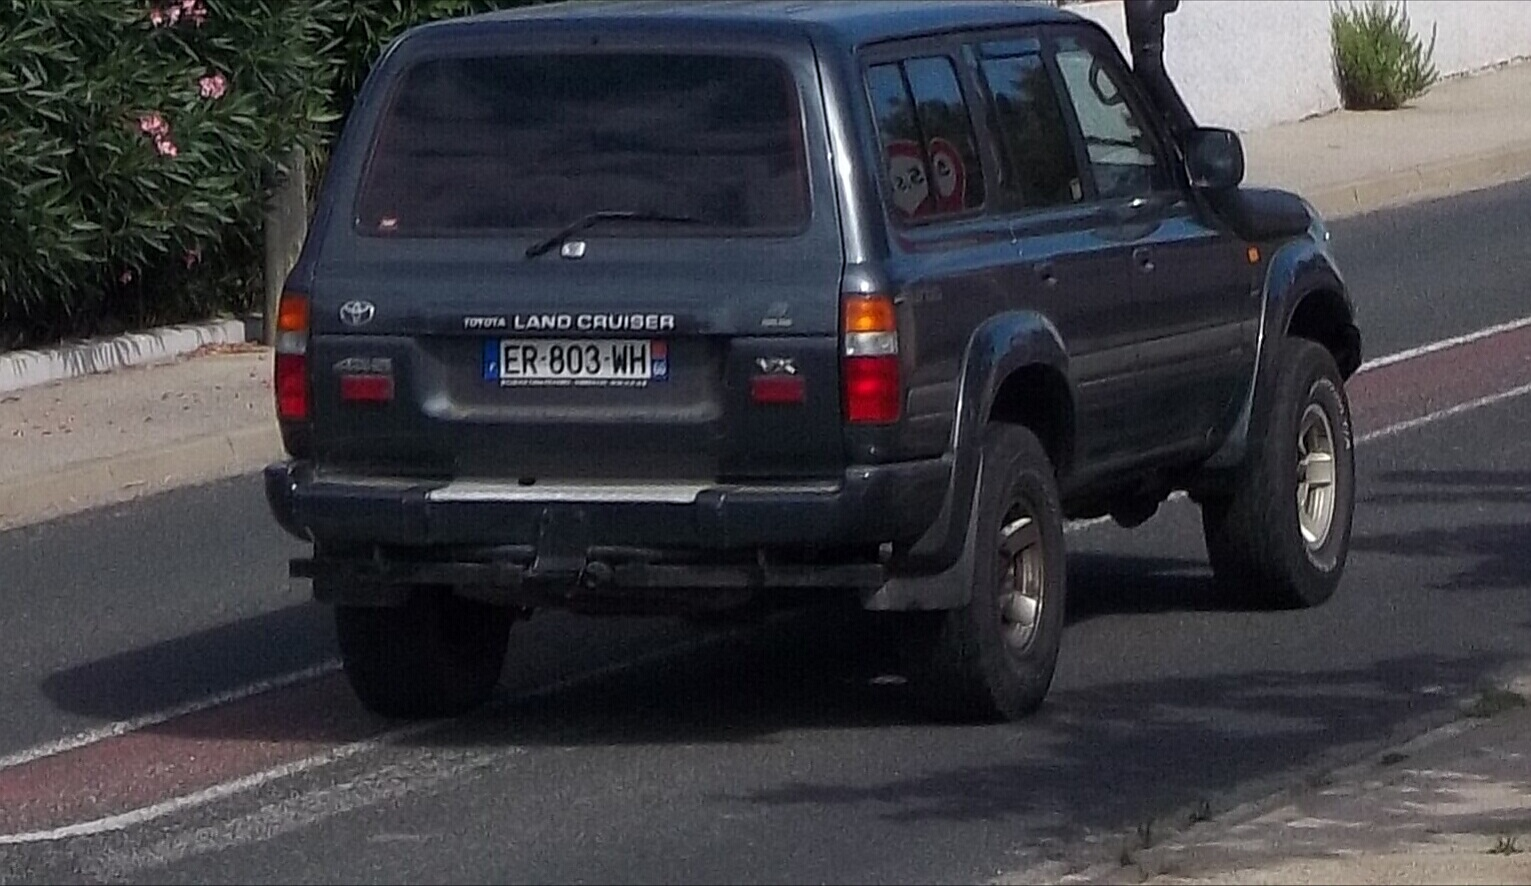licence plate: (475, 332, 679, 393)
